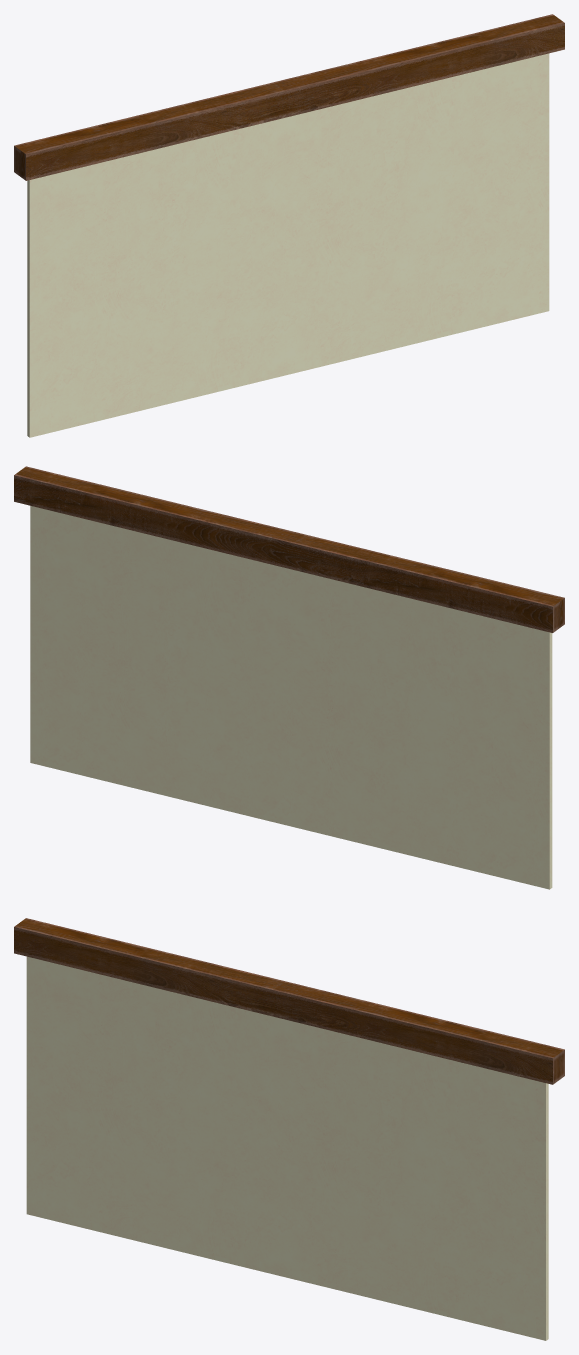
Rendered from JP_Wall.002.fbx.
3 renders of one model, top to bottom at view 1: azimuth 30°, elevation 25°; view 2: azimuth 150°, elevation 25°; view 3: azimuth 330°, elevation 25°, orthographic.
Parts seen in each view (by area): view 1: JP_Wall.002; view 2: JP_Wall.002; view 3: JP_Wall.002.
Part boxes in pixels (<box>): JP_Wall.002: <box>14,14,564,437</box>; JP_Wall.002: <box>14,466,564,889</box>; JP_Wall.002: <box>14,918,564,1340</box>.
Bounding box in the file's own units: 519 × 266 × 20.26.
